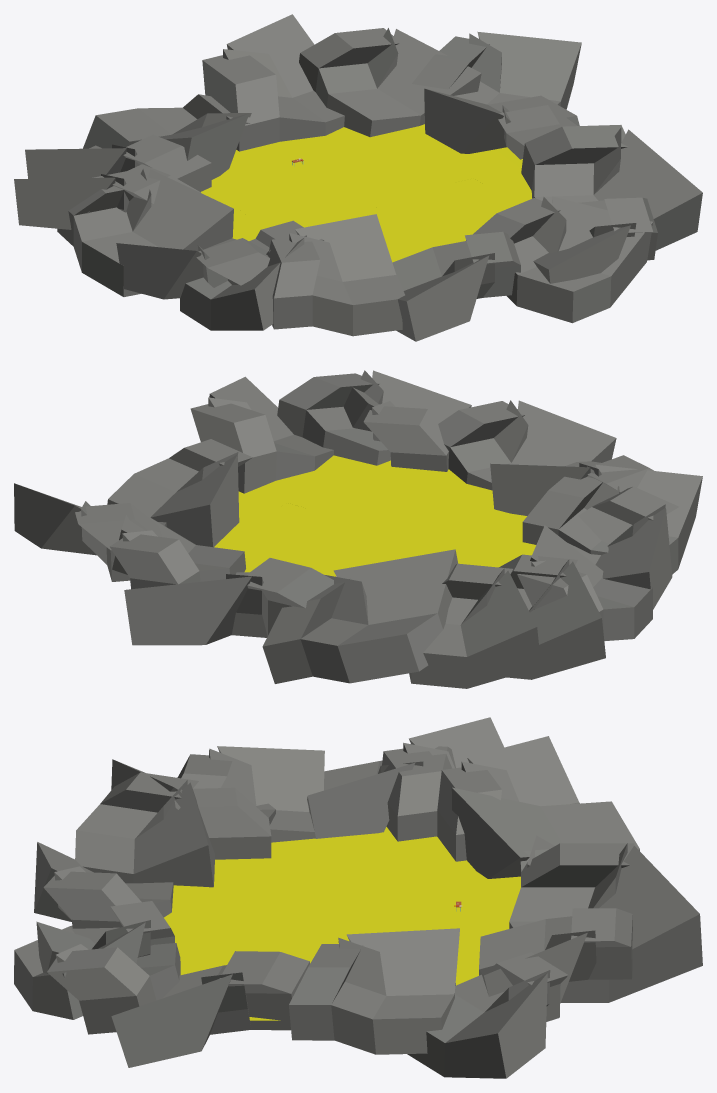
File: Пустыня.fbx
3 renders of one model, top to bottom at view 1: azimuth 30°, elevation 25°; view 2: azimuth 150°, elevation 25°; view 3: azimuth 270°, elevation 25°, orthographic. The views are drawn at different scales.
Visible parts, largest first — view 1: Пустыня, Cube.047, Cube.051, Cube.044, Cube.043, Cube.049, Cube.054, Cube.048, Cube.045, Cube.046, Cube.053, Cube.055 (+4 smaller); view 2: Пустыня, Cube.046, Cube.043, Cube.057, Cube.048, Cube.053, Cube.052, Cube.051, Cube.050, Cube.055, Cube.056, Cube.045 (+4 smaller); view 3: Пустыня, Cube.053, Cube.043, Cube.051, Cube.047, Cube.045, Cube.046, Cube.052, Cube.044, Cube.055, Cube.057, Cube.056 (+4 smaller).
Part boxes in pixels (bbox=[...]): Пустыня: bbox=[201, 124, 531, 262]; Cube.047: bbox=[267, 214, 404, 336]; Cube.051: bbox=[521, 125, 702, 250]; Cube.044: bbox=[299, 28, 481, 137]; Cube.043: bbox=[202, 14, 344, 151]; Cube.049: bbox=[466, 196, 653, 323]; Cube.054: bbox=[57, 169, 233, 296]; Cube.048: bbox=[392, 231, 520, 341]; Cube.045: bbox=[412, 31, 581, 109]; Cube.046: bbox=[83, 94, 251, 179]; Cube.053: bbox=[424, 88, 579, 159]; Cube.055: bbox=[116, 238, 269, 299]; Пустыня: bbox=[214, 455, 535, 576]; Cube.046: bbox=[262, 549, 457, 683]; Cube.043: bbox=[124, 558, 333, 645]; Cube.057: bbox=[409, 563, 541, 688]; Cube.048: bbox=[438, 400, 616, 490]; Cube.053: bbox=[107, 439, 252, 547]; Cube.052: bbox=[277, 370, 471, 465]; Cube.051: bbox=[190, 376, 333, 493]; Cube.050: bbox=[522, 464, 702, 574]; Cube.055: bbox=[568, 486, 679, 609]; Cube.056: bbox=[499, 554, 605, 679]; Cube.045: bbox=[14, 483, 166, 581]; Пустыня: bbox=[164, 827, 520, 1020]; Cube.053: bbox=[289, 928, 459, 1054]; Cube.043: bbox=[509, 843, 702, 1002]; Cube.051: bbox=[111, 951, 309, 1067]; Cube.047: bbox=[75, 772, 214, 887]; Cube.045: bbox=[407, 952, 568, 1078]; Cube.046: bbox=[451, 787, 639, 878]; Cube.052: bbox=[36, 921, 180, 1034]; Cube.044: bbox=[479, 908, 632, 1003]; Cube.055: bbox=[177, 746, 324, 842]; Cube.057: bbox=[437, 736, 579, 861]; Cube.056: bbox=[382, 717, 504, 841].
Size of the model in its own units: 15058 by 2594 by 14127.
